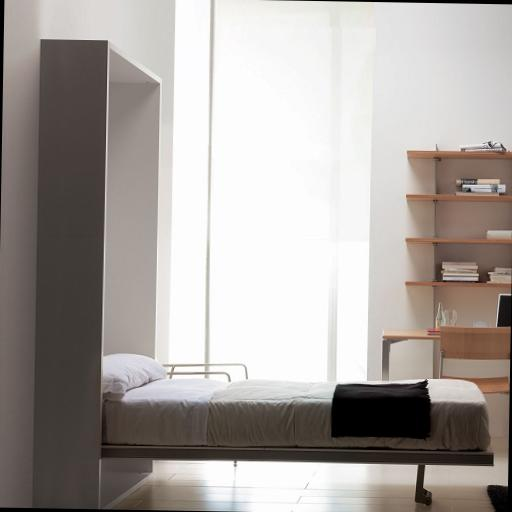bed: (32, 38, 501, 512)
